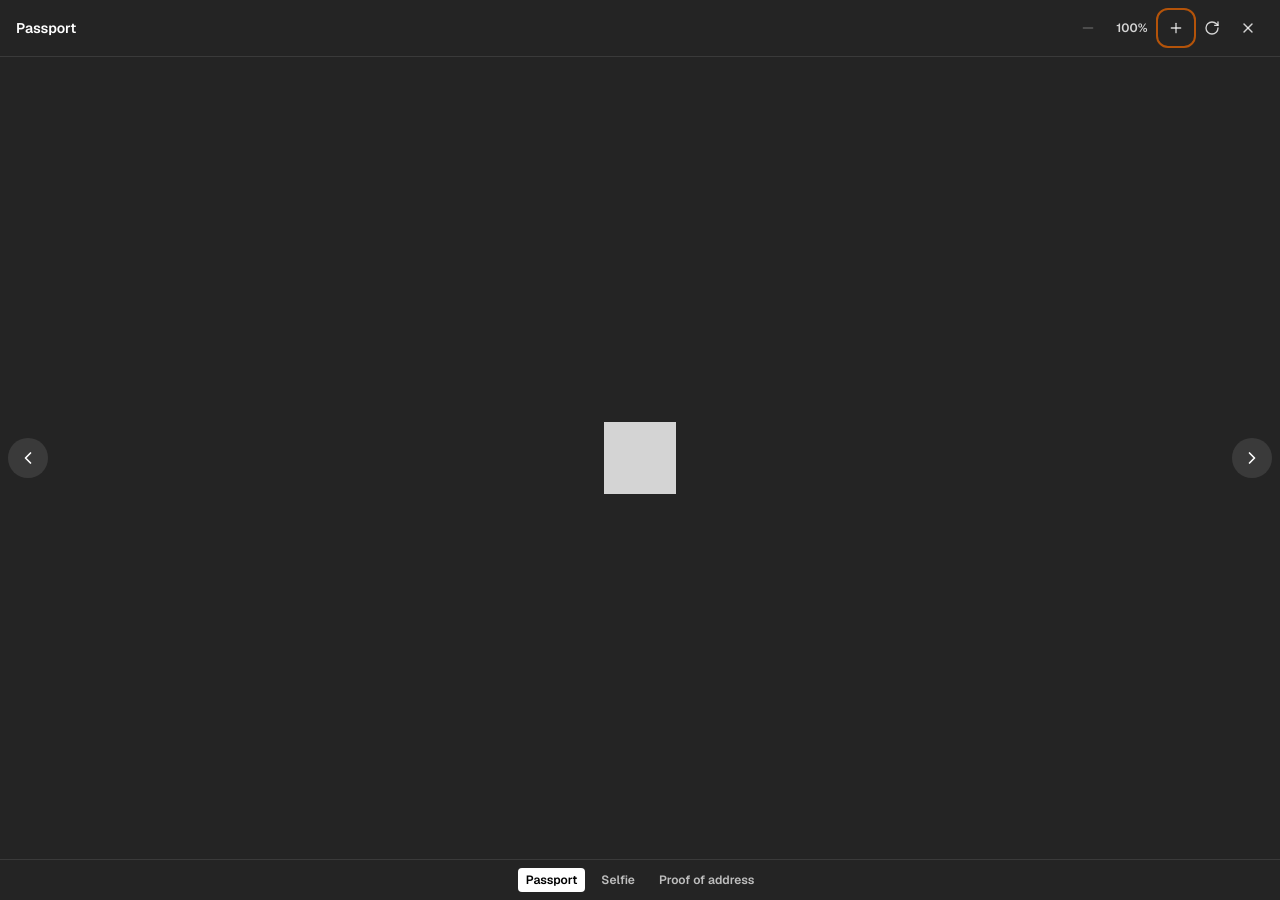
DocLightbox › RESETS the view when moving to another document
Click the button named "zoom in" at {"x": 1176, "y": 28}, box [1160,12,1192,44]
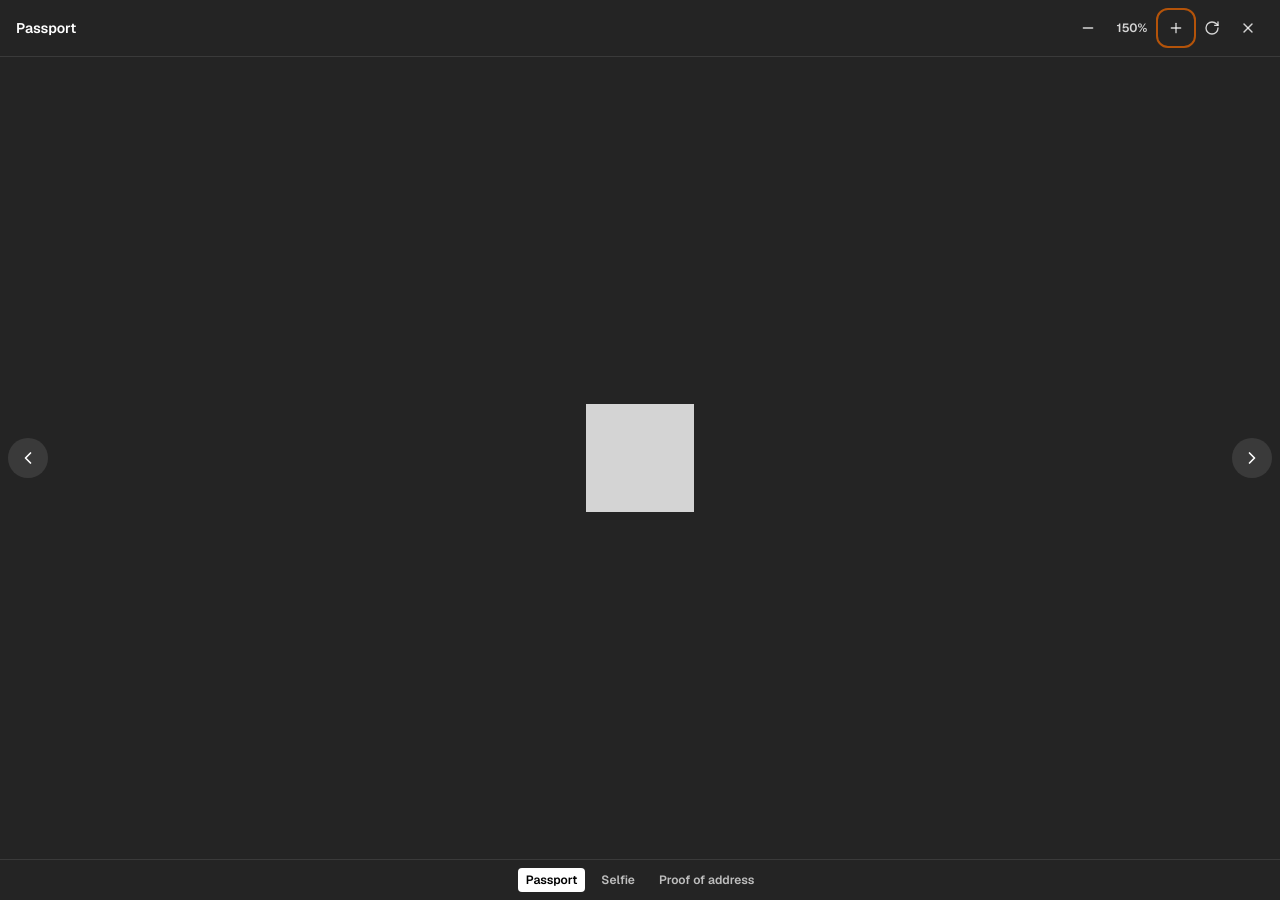
Now the text "150%" is shown, box [1117,20,1147,36]
Click the button named "next document" at {"x": 1252, "y": 458}, box [1232,438,1272,478]
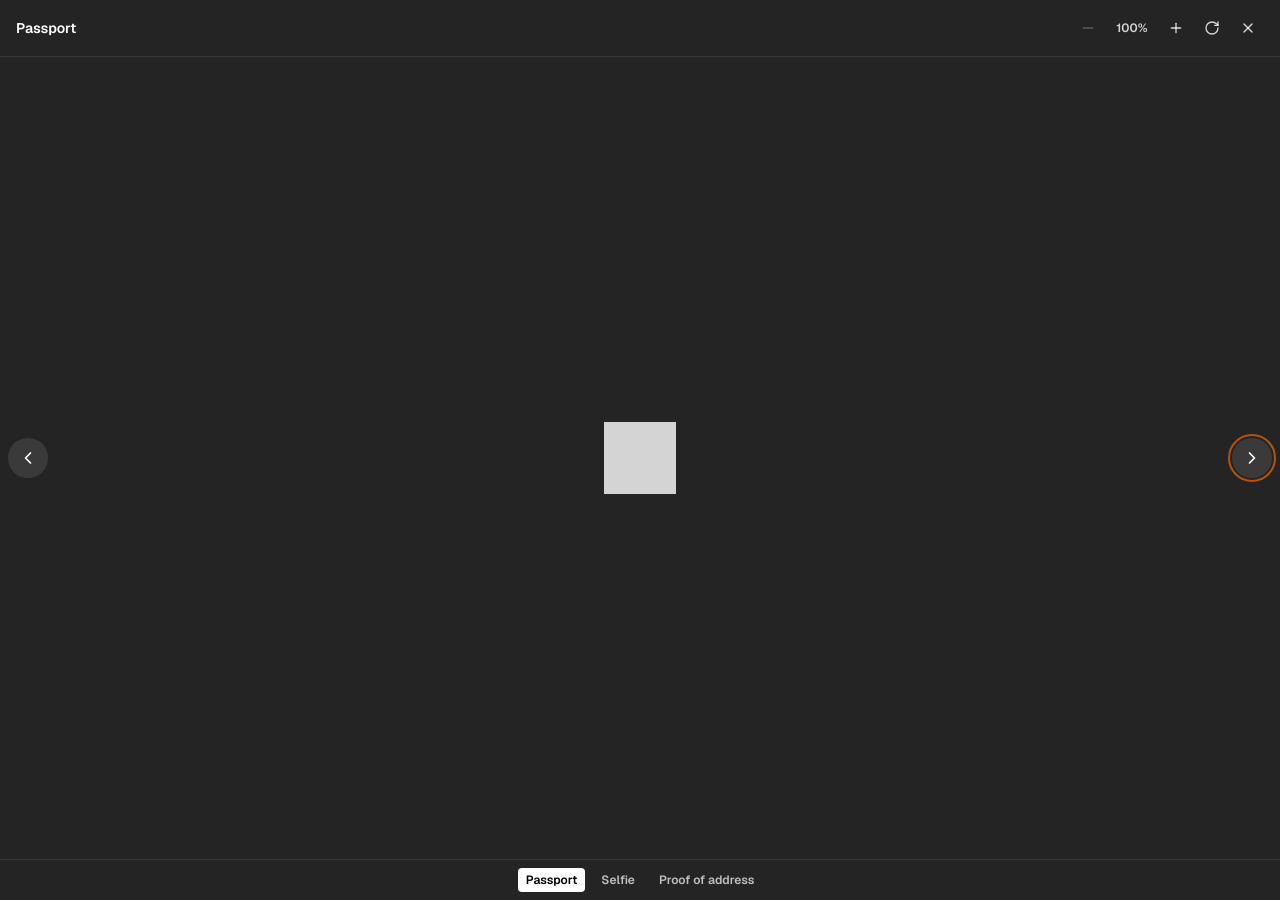
Now the text "100%" is shown, box [1116,20,1148,36]
